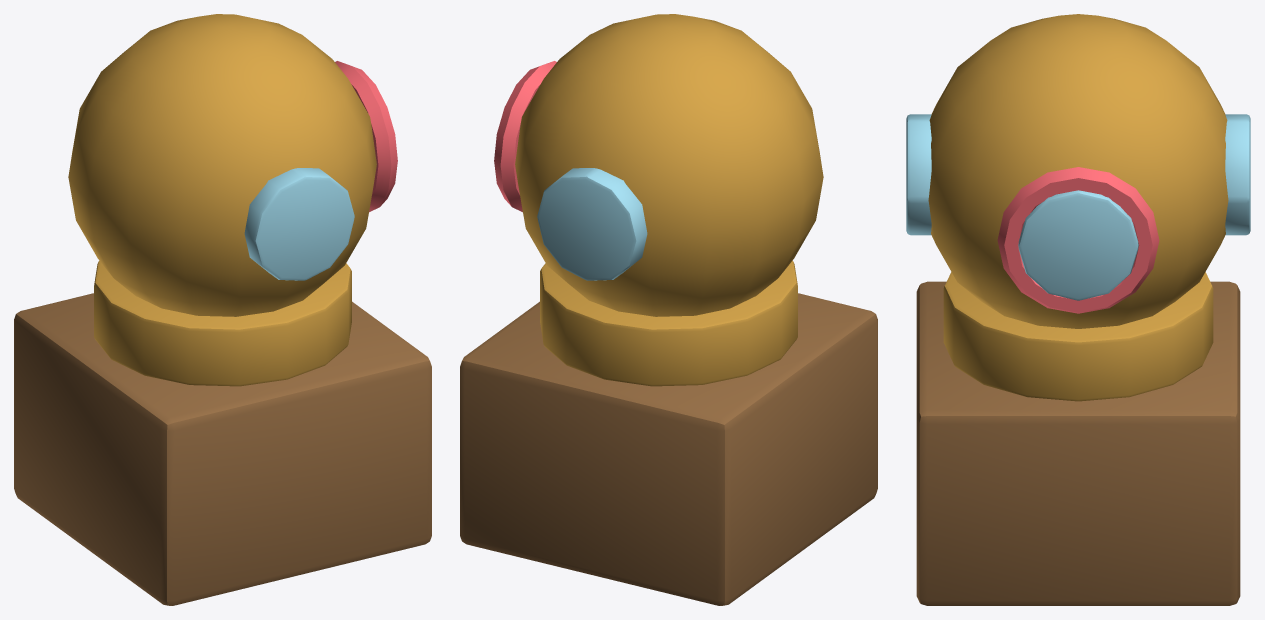
File: MidReef.fbx
3 renders of one model, left to right at view 1: azimuth 30°, elevation 25°; view 2: azimuth 150°, elevation 25°; view 3: azimuth 270°, elevation 25°, orthographic. The views are drawn at different scales.
Parts seen in each view (by area): view 1: MidReef; view 2: MidReef; view 3: MidReef.
Boxes of the visible parts, left/top/right/bottom form: MidReef: left=14, top=14, right=431, bottom=605; MidReef: left=460, top=14, right=877, bottom=605; MidReef: left=906, top=14, right=1250, bottom=605.
Size of the model in its own units: 248 by 420 by 255.
